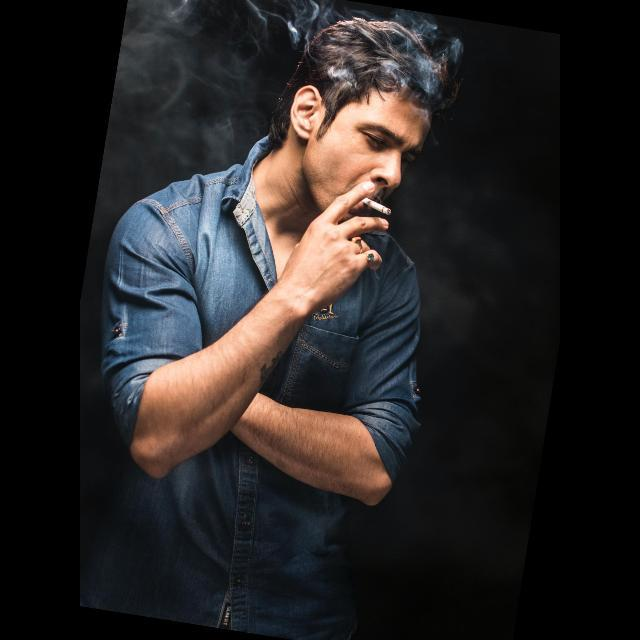rokok: (348, 175, 406, 219)
